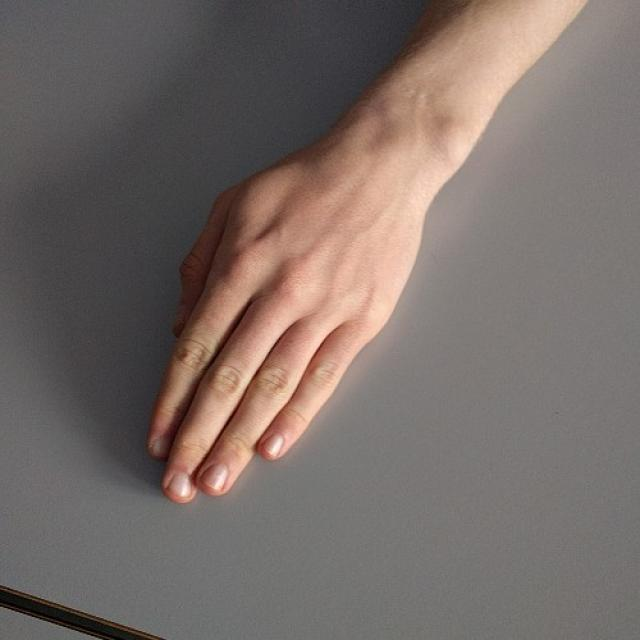paper: (148, 142, 397, 504)
